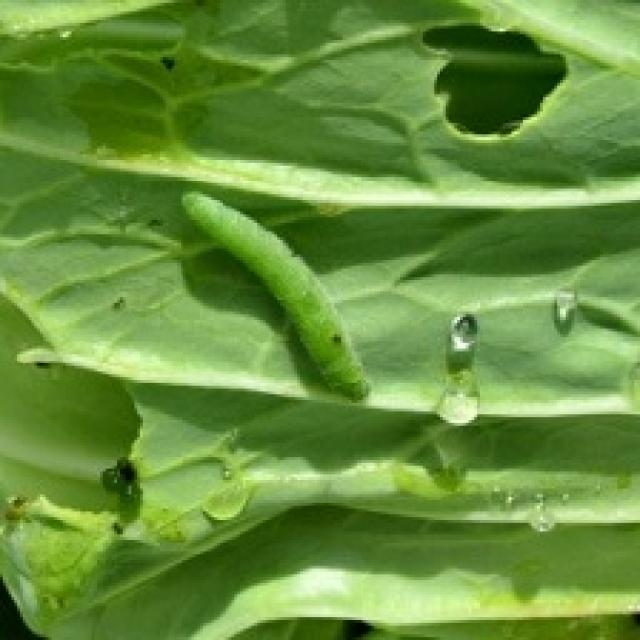Cabbage-worm: (187, 183, 385, 414)
